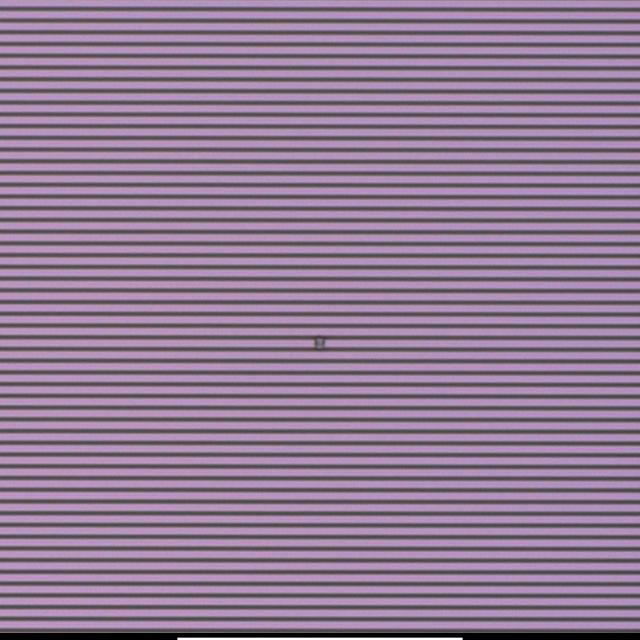03_intrusion: (307, 332, 329, 351)
